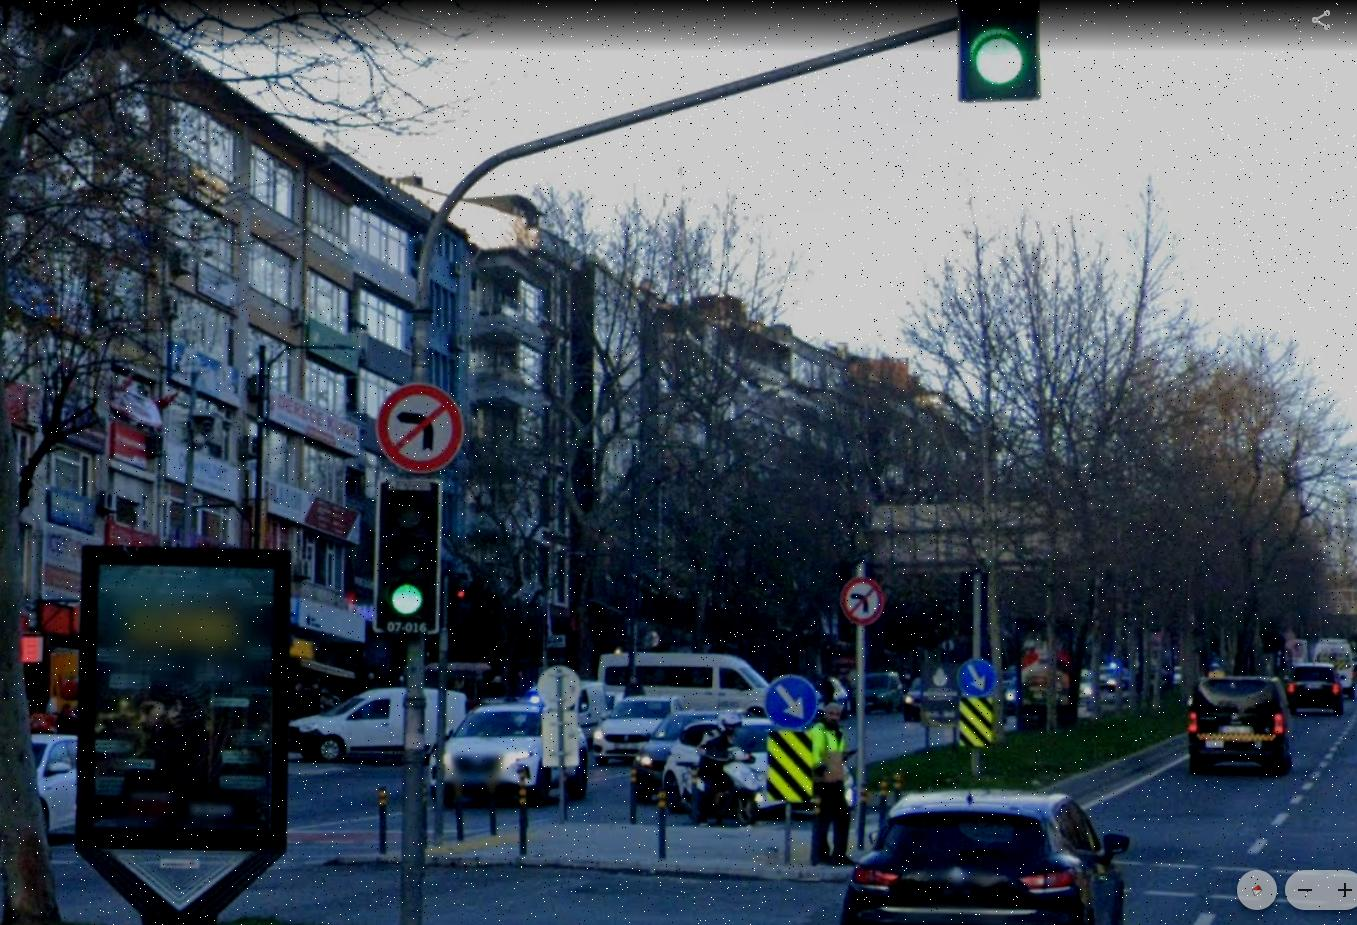greenlight: (377, 474, 445, 621)
leftturnsareforbidden: (376, 387, 467, 470), (839, 579, 884, 626)
